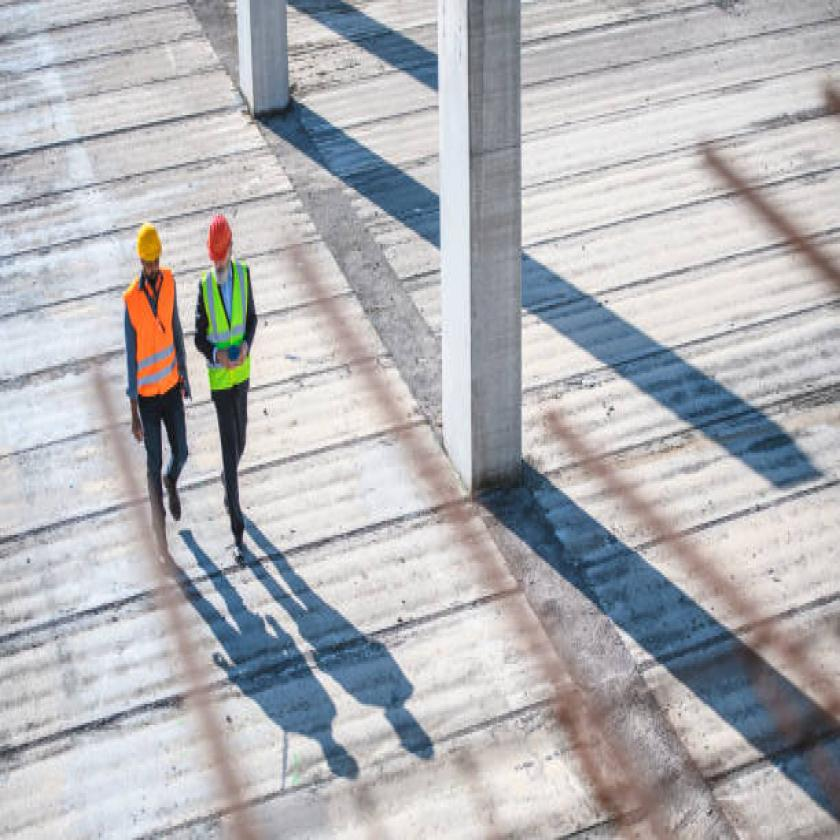Con_casco: (130, 208, 173, 295), (200, 204, 236, 285)
